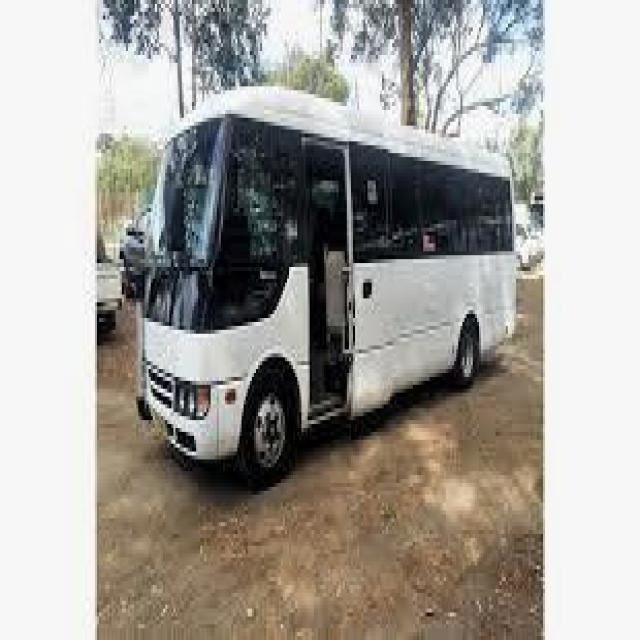Bus: (132, 86, 516, 483)
